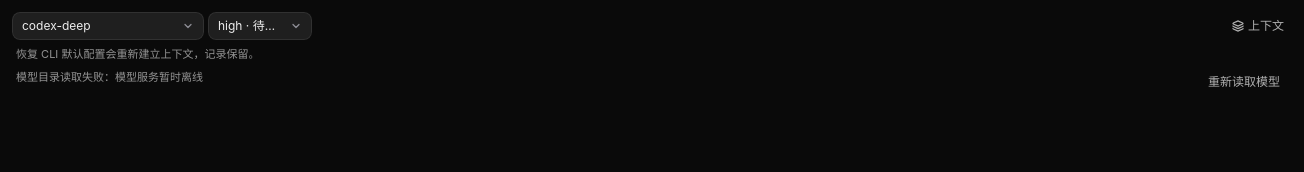
模型目录失败保留当前模型，显式刷新恢复且不改写会话
Expected: the message shows "模型目录读取失败", 16,70 -> 203,84
Expected: the dropdown named "对话模型" reads "codex-deep", 12,12 -> 204,40
Click the button "重新读取模型" at (1244, 82), box 1200,70 -> 1288,94
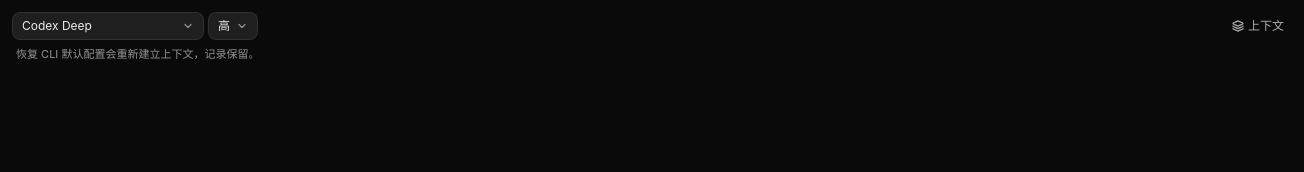
Expected: the dropdown named "对话模型" reads "Codex Deep", 12,12 -> 204,40
Expected: the message "模型目录读取失败：模型服务暂时离线" is gone
